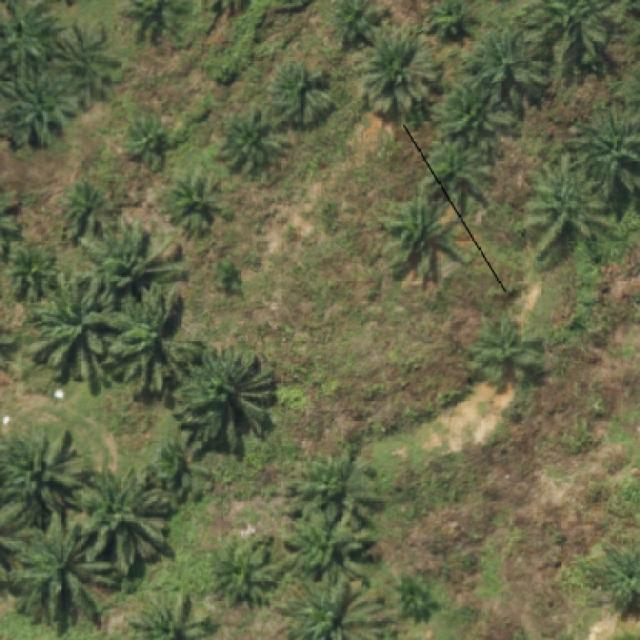Kelapa_Sawit: (280, 437, 395, 591), (168, 347, 286, 461), (9, 513, 120, 629), (29, 269, 129, 396), (70, 458, 176, 574), (104, 279, 207, 398), (77, 220, 186, 312), (523, 155, 615, 260), (354, 24, 444, 118), (383, 195, 475, 283), (468, 29, 554, 116), (430, 77, 516, 157), (4, 61, 81, 150), (50, 18, 121, 113), (422, 134, 495, 214), (468, 310, 542, 388), (210, 535, 282, 610), (270, 57, 336, 129), (218, 108, 282, 175), (170, 170, 228, 235), (5, 238, 57, 302), (64, 175, 108, 242), (127, 117, 171, 174)
